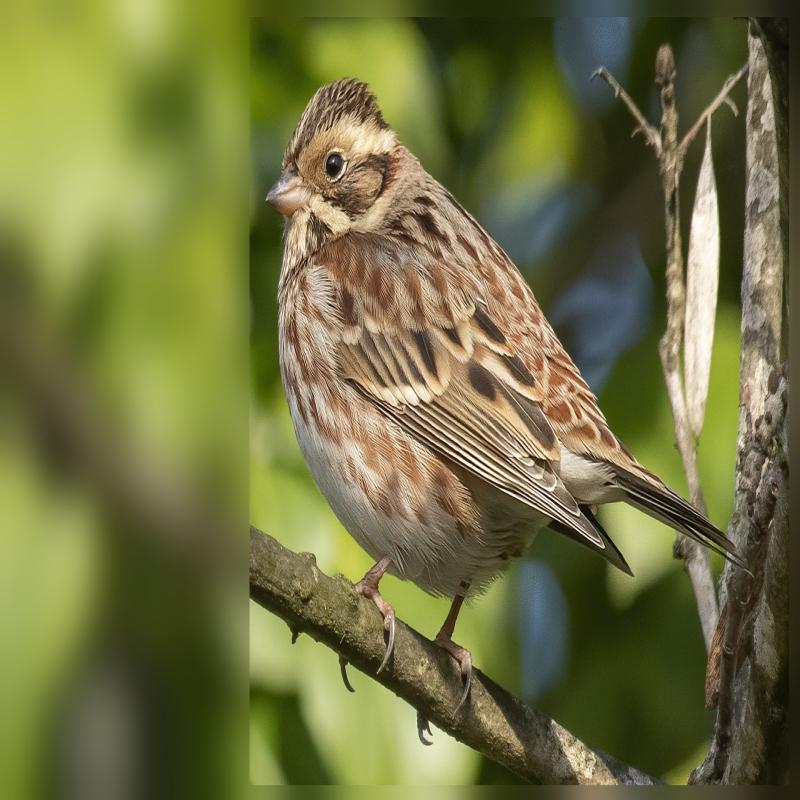rustic bunting: (259, 70, 750, 608)
